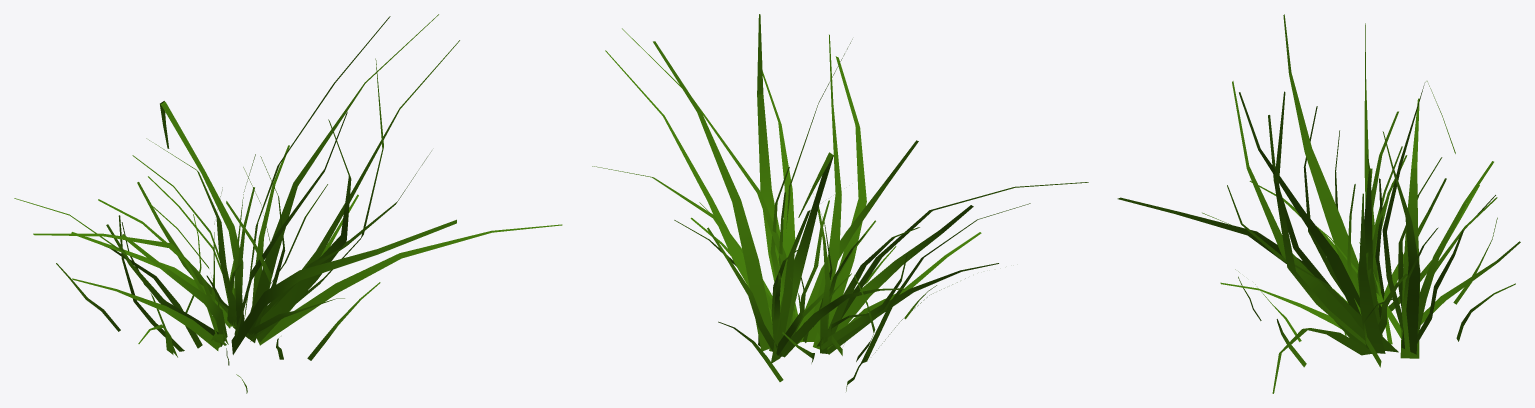
Rendered from grass 2.fbx.
The picture shows the model from 3 angles, left to right: view 1: azimuth 30°, elevation 25°; view 2: azimuth 150°, elevation 25°; view 3: azimuth 270°, elevation 25°; orthographic projection. The views are drawn at different scales.
Visible parts, largest first — view 1: allGrass_001:grassClump_003polySurface140; view 2: allGrass_001:grassClump_003polySurface140; view 3: allGrass_001:grassClump_003polySurface140.
Boxes of the visible parts, box(x1,y1,x2,y2) form: allGrass_001:grassClump_003polySurface140: box(14, 14, 562, 393); allGrass_001:grassClump_003polySurface140: box(592, 14, 1088, 391); allGrass_001:grassClump_003polySurface140: box(1117, 14, 1520, 393).
Size of the model in its own units: 11.05 by 6.07 by 7.2.
